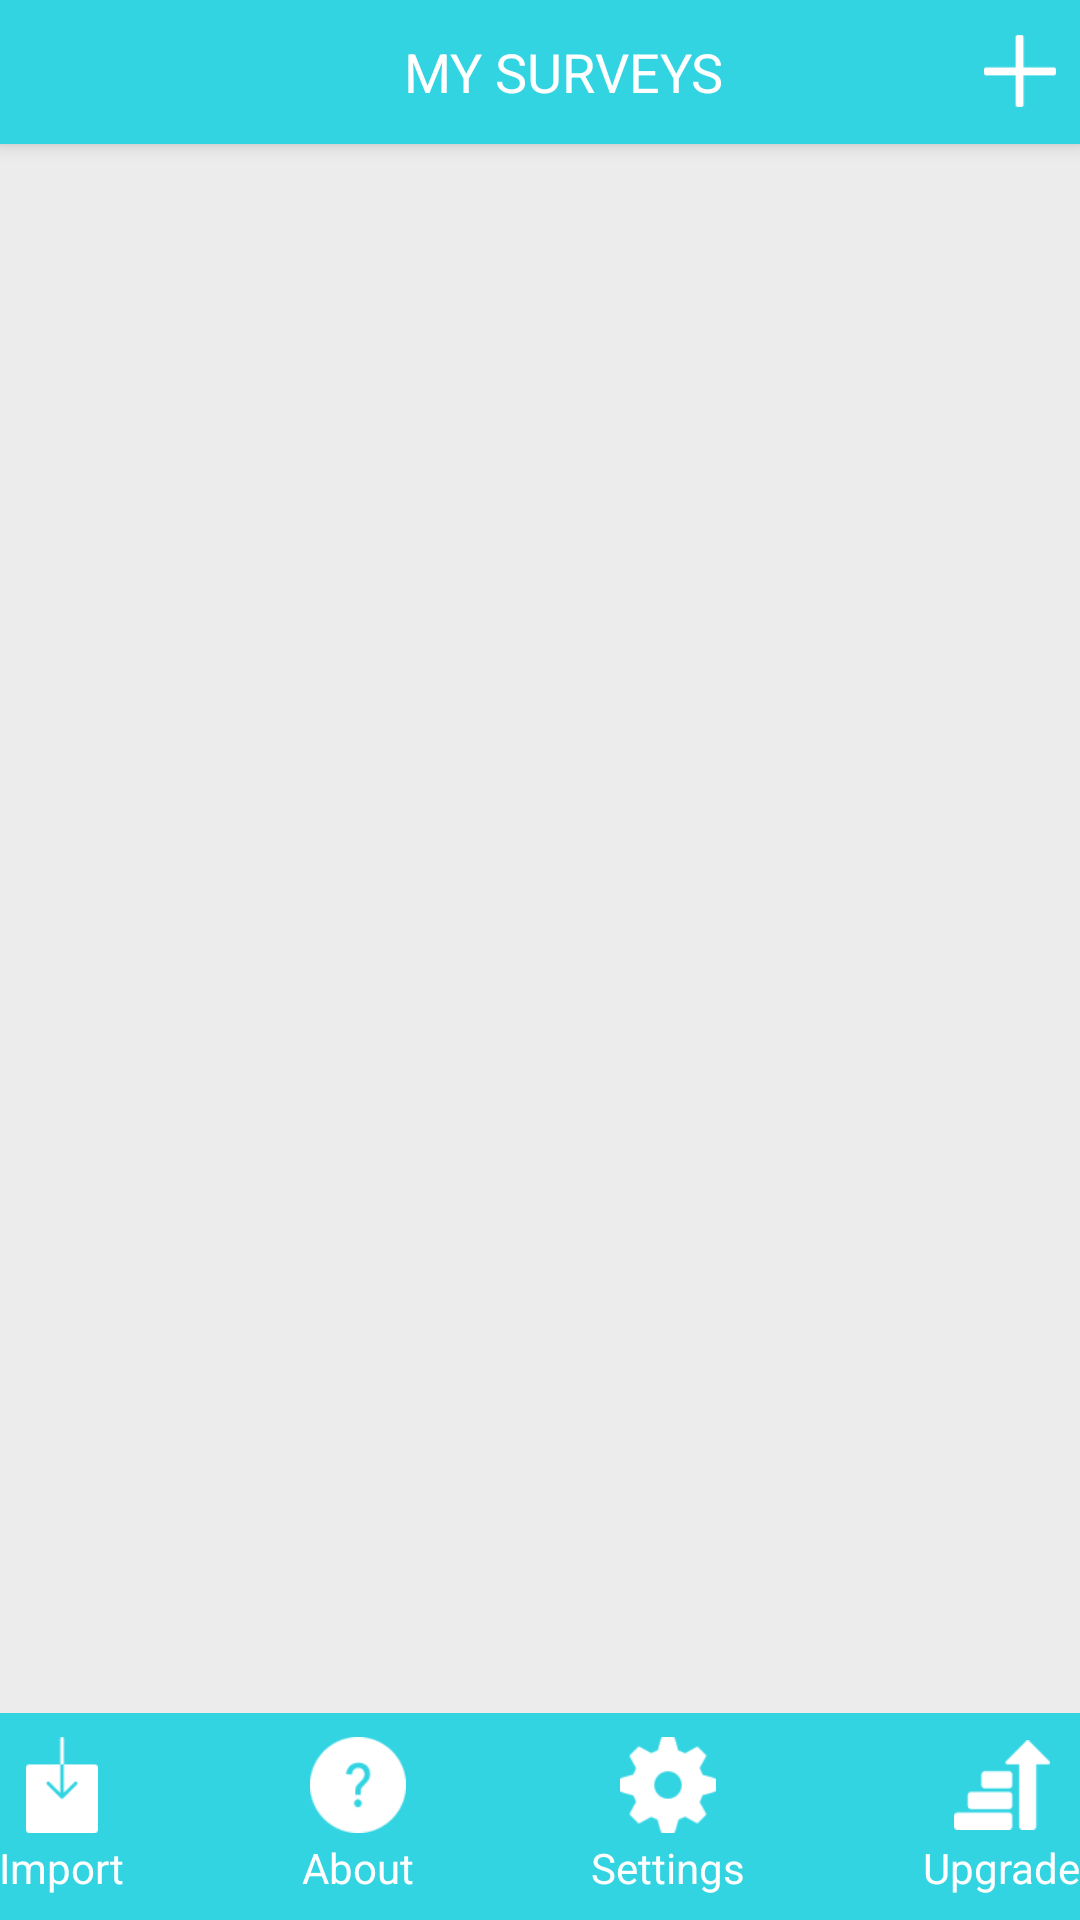

Icon bounding boxes for this 1080 × 1920 phone screenshot, format (x1, y1, x2, y2):
plus: (984, 35, 1056, 107)
